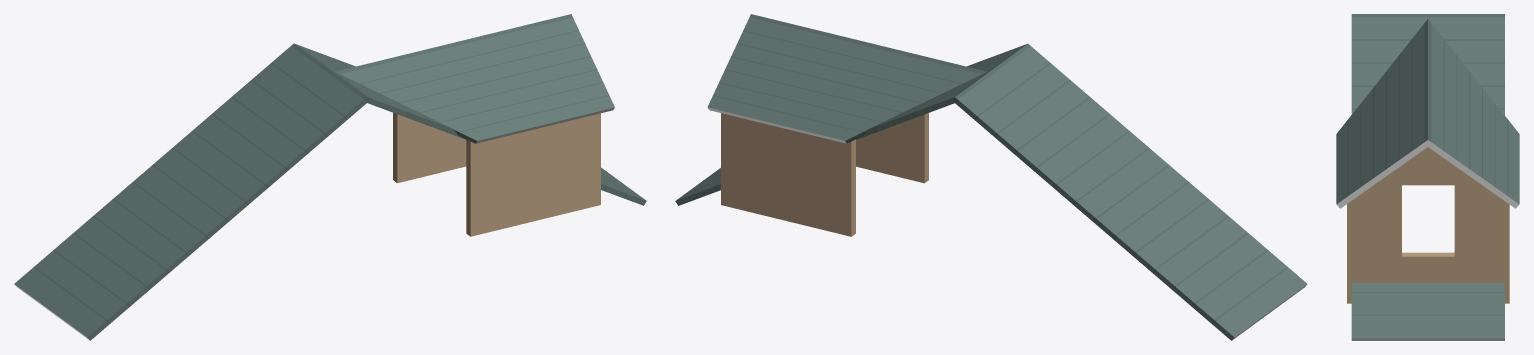
Rendered from Roof4_C6_05.fbx.
3 renders of one model, left to right at view 1: azimuth 30°, elevation 25°; view 2: azimuth 150°, elevation 25°; view 3: azimuth 270°, elevation 25°, orthographic. The views are drawn at different scales.
Parts seen in each view (by area): view 1: Roof4_C6_05; view 2: Roof4_C6_05; view 3: Roof4_C6_05.
Boxes of the visible parts, <box> form: Roof4_C6_05: <box>14,14,646,340</box>; Roof4_C6_05: <box>675,14,1307,340</box>; Roof4_C6_05: <box>1336,14,1519,340</box>.
Bounding box in the file's own units: 1105 × 333 × 298.
